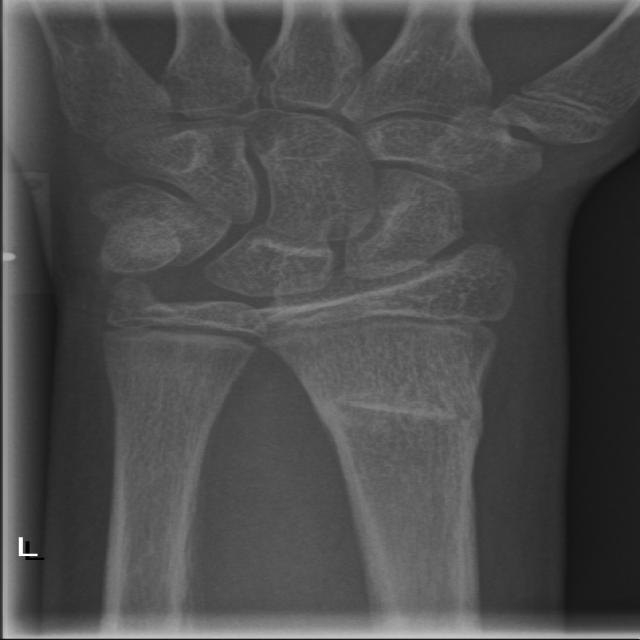radius fracture: (256, 352, 537, 475)
